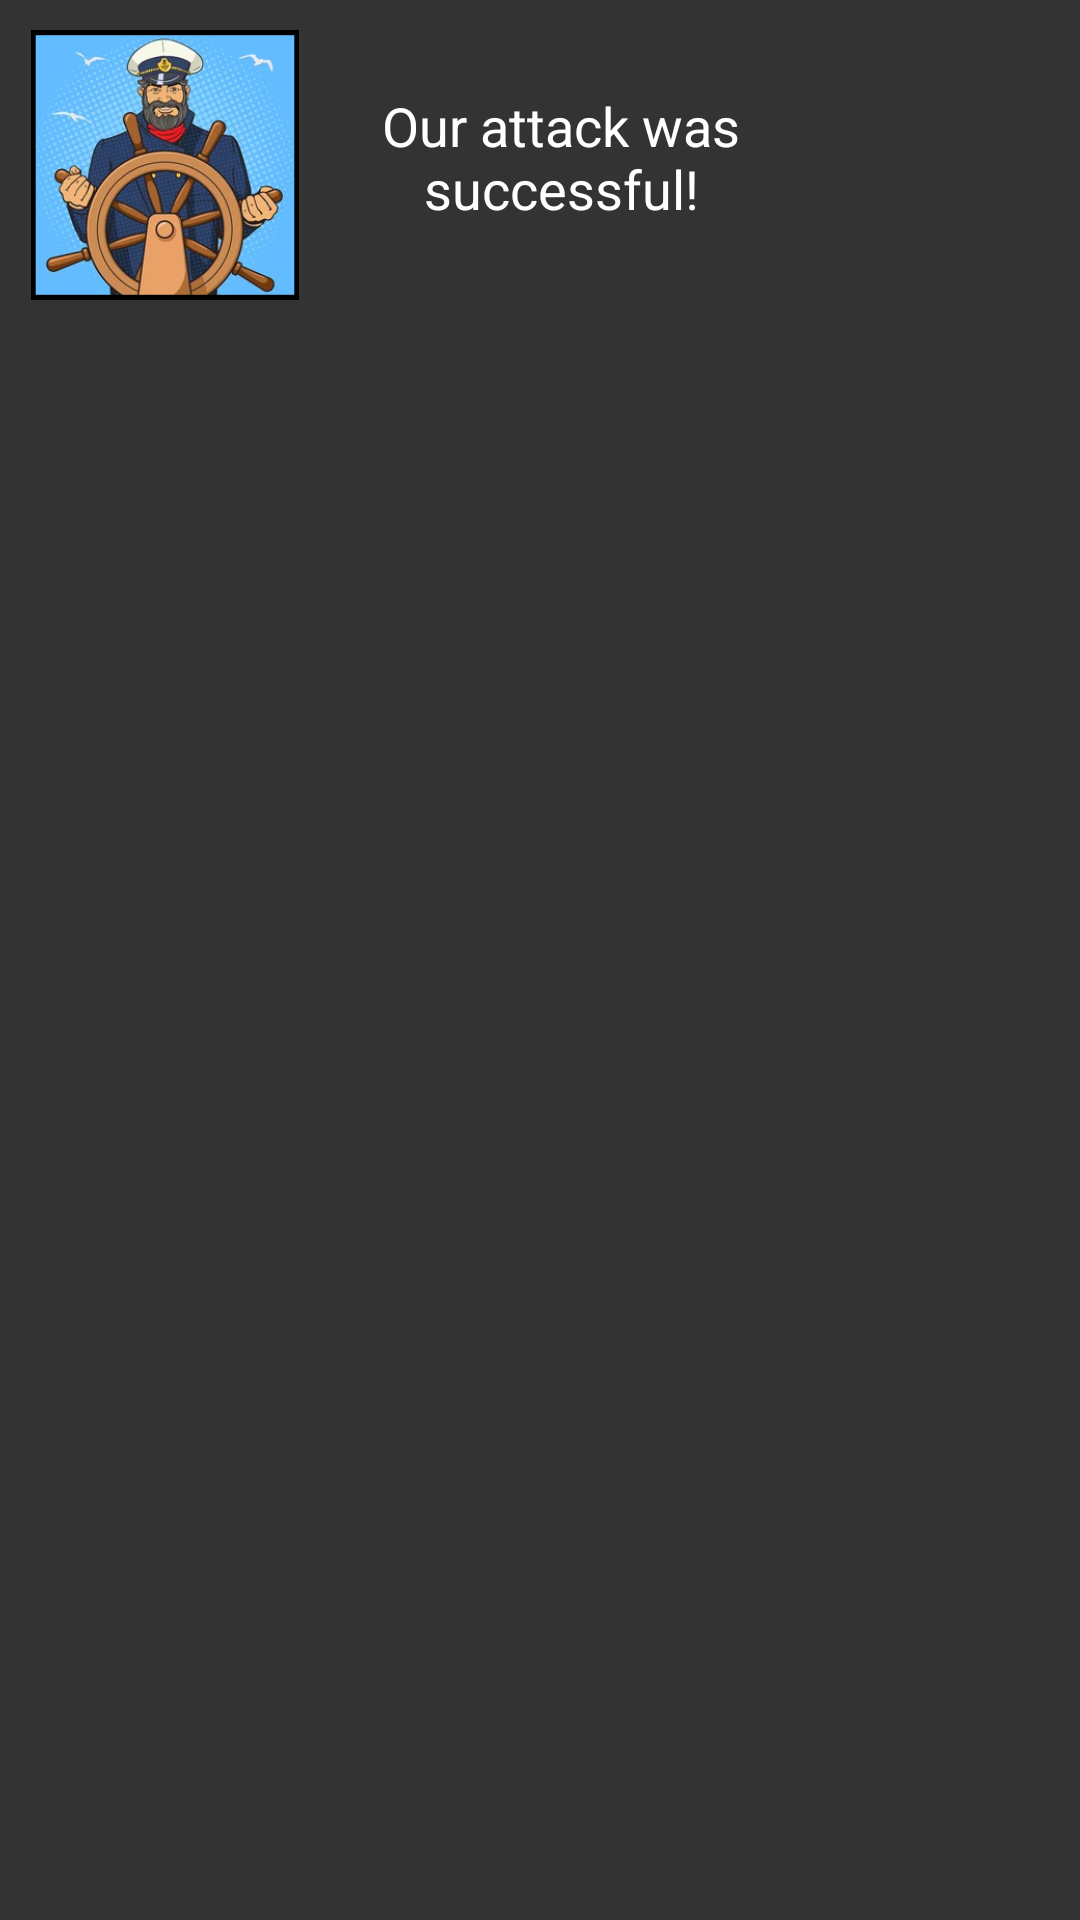

Where to tap for icons on this 1080x1920 app screen, as [x,y]:
captain: [165,165]
